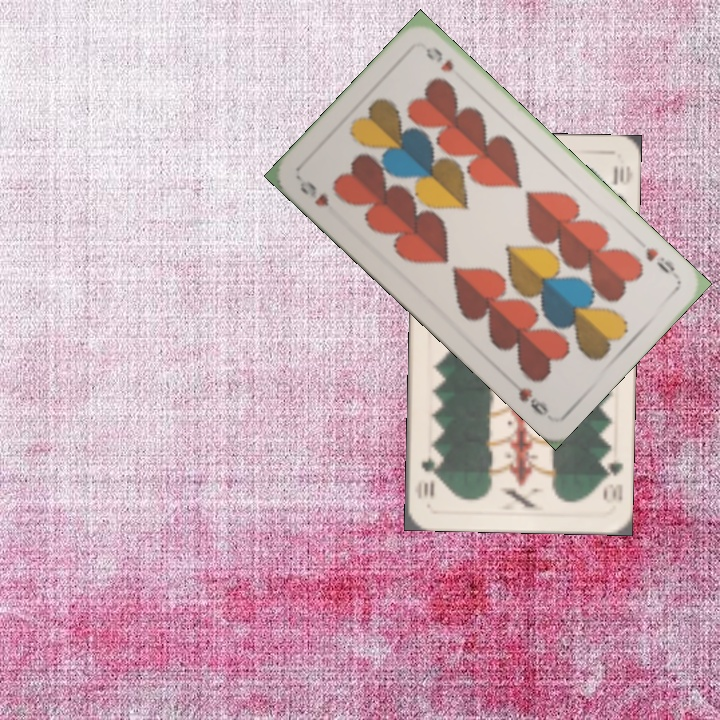G10: (598, 449, 626, 506)
H9: (295, 176, 332, 210), (641, 243, 678, 277)
